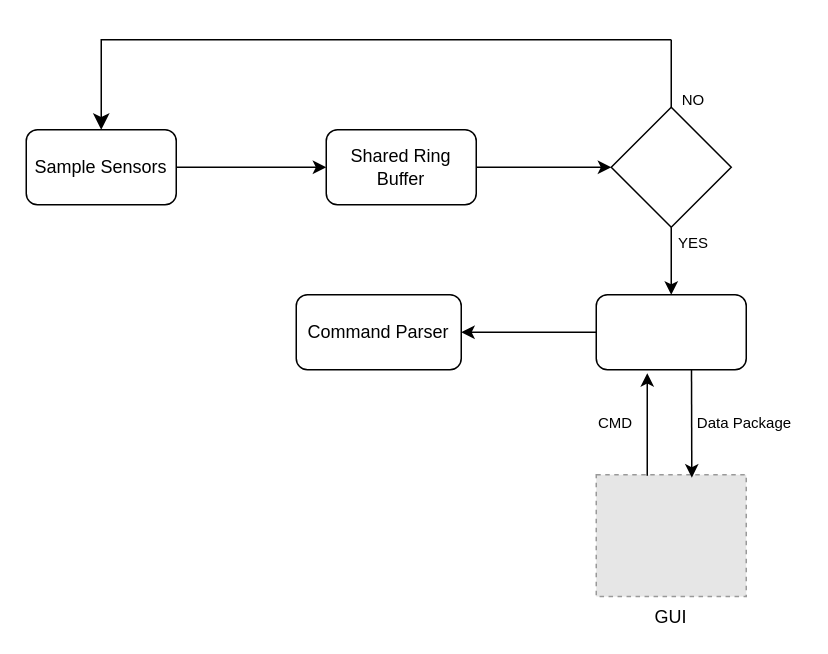
The diagram is 828 pixels wide and 654 high, and some of its shapes have lost their labels. Grey dashed boxes stand in for pictures. Here are the shapes that lost their labels. From the top down, the box of each, then its label:
(610, 106, 731, 227): Data requested by GUI ?
(595, 293, 746, 370): Ethernet Packet
